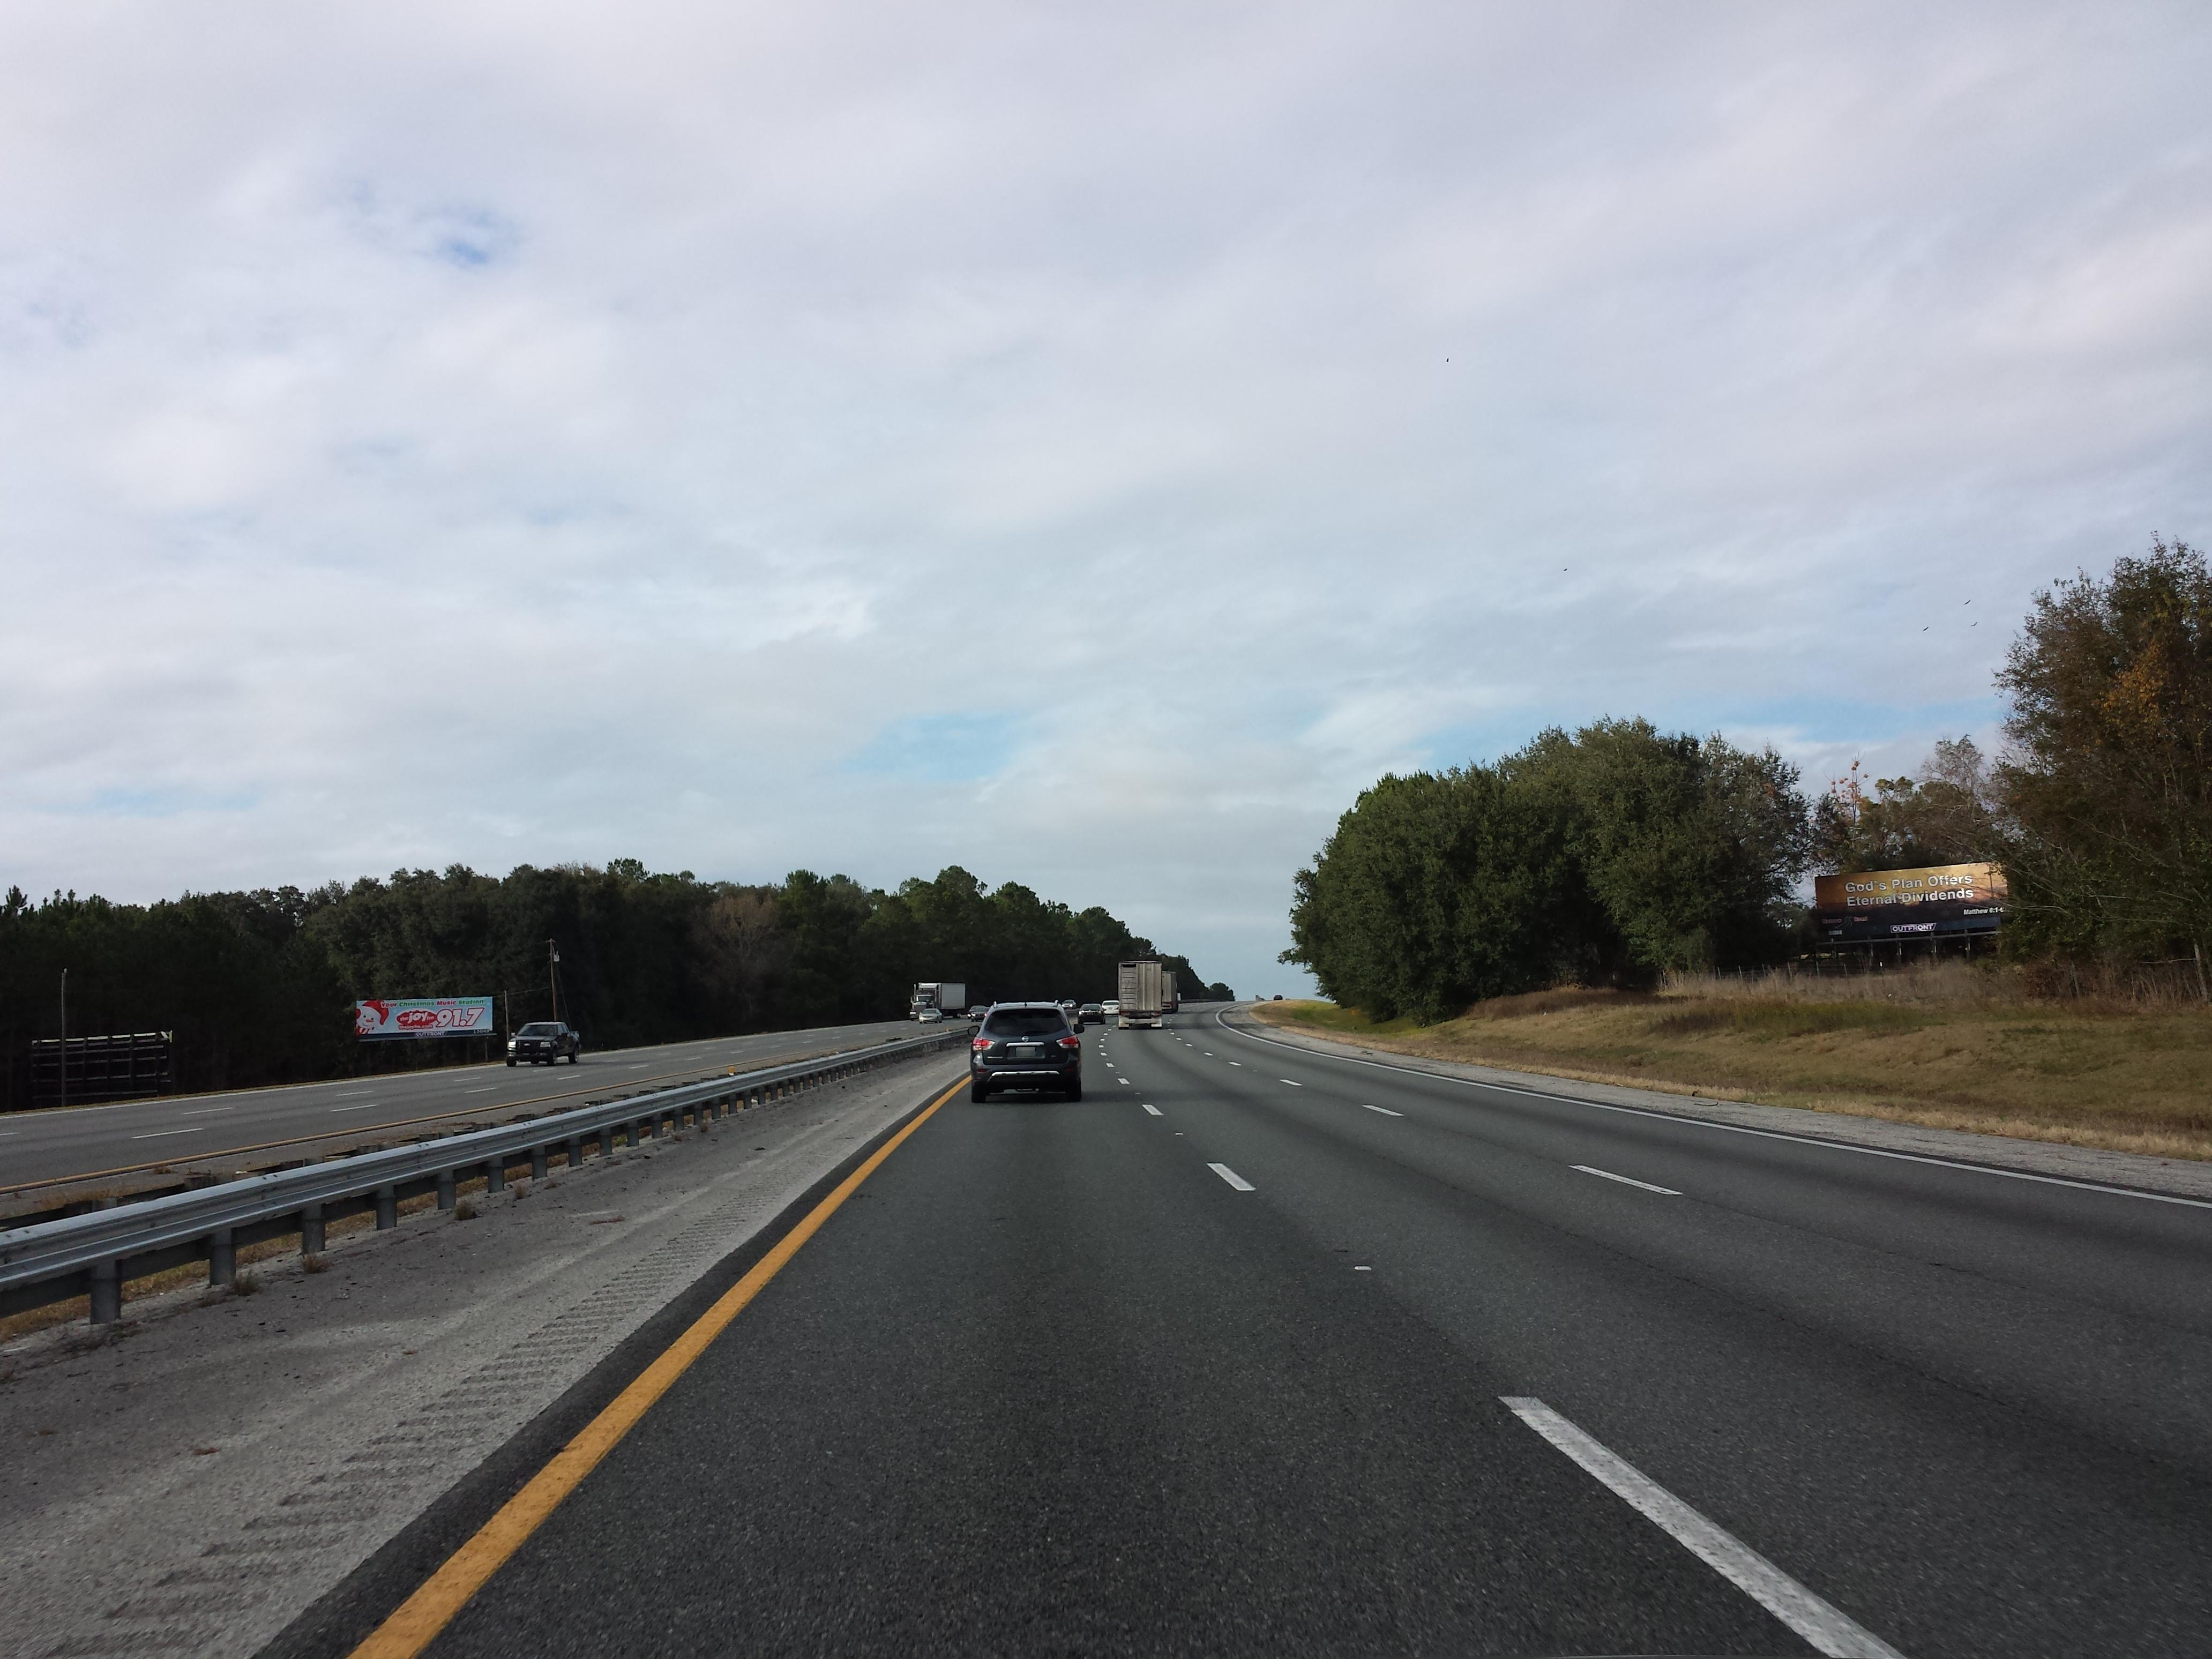vinyl banner: (341, 974, 507, 1040)
